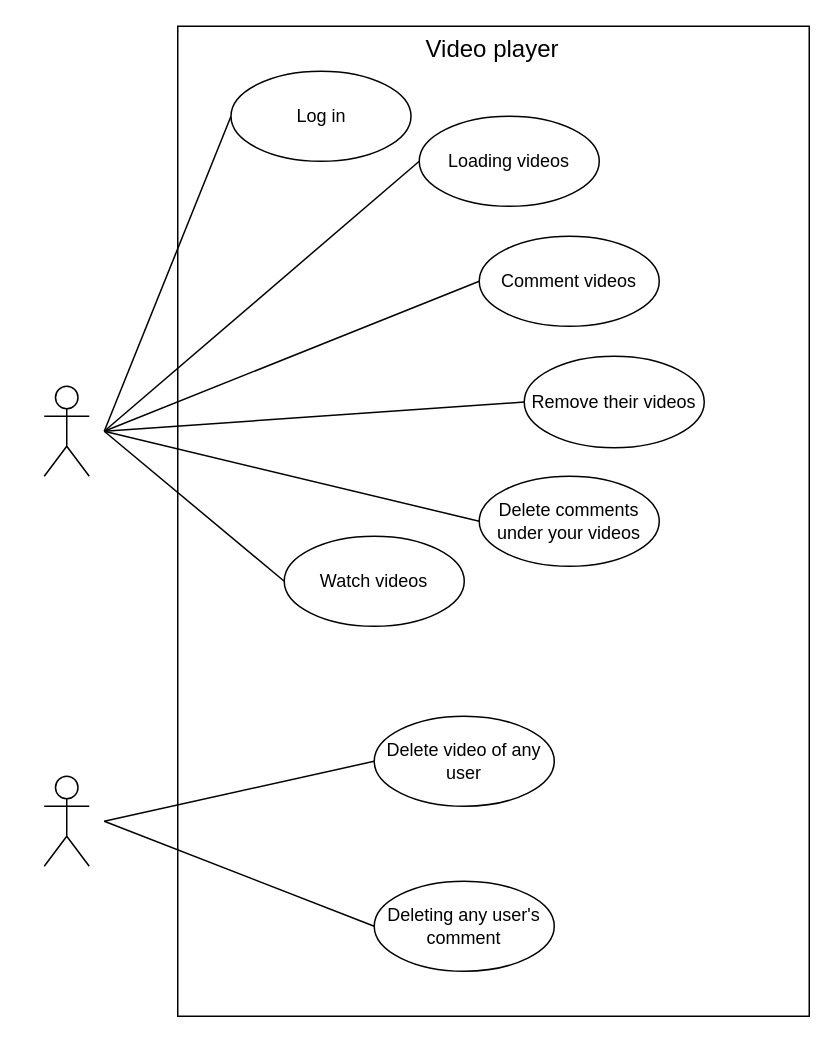
The diagram is 836 pixels wide and 1043 high, and some of its shapes have lost their labels. Here are the shapes that lost their labels. From the top down, the centre of each, then its label:
[66,430]: User
[66,820]: Moderator
